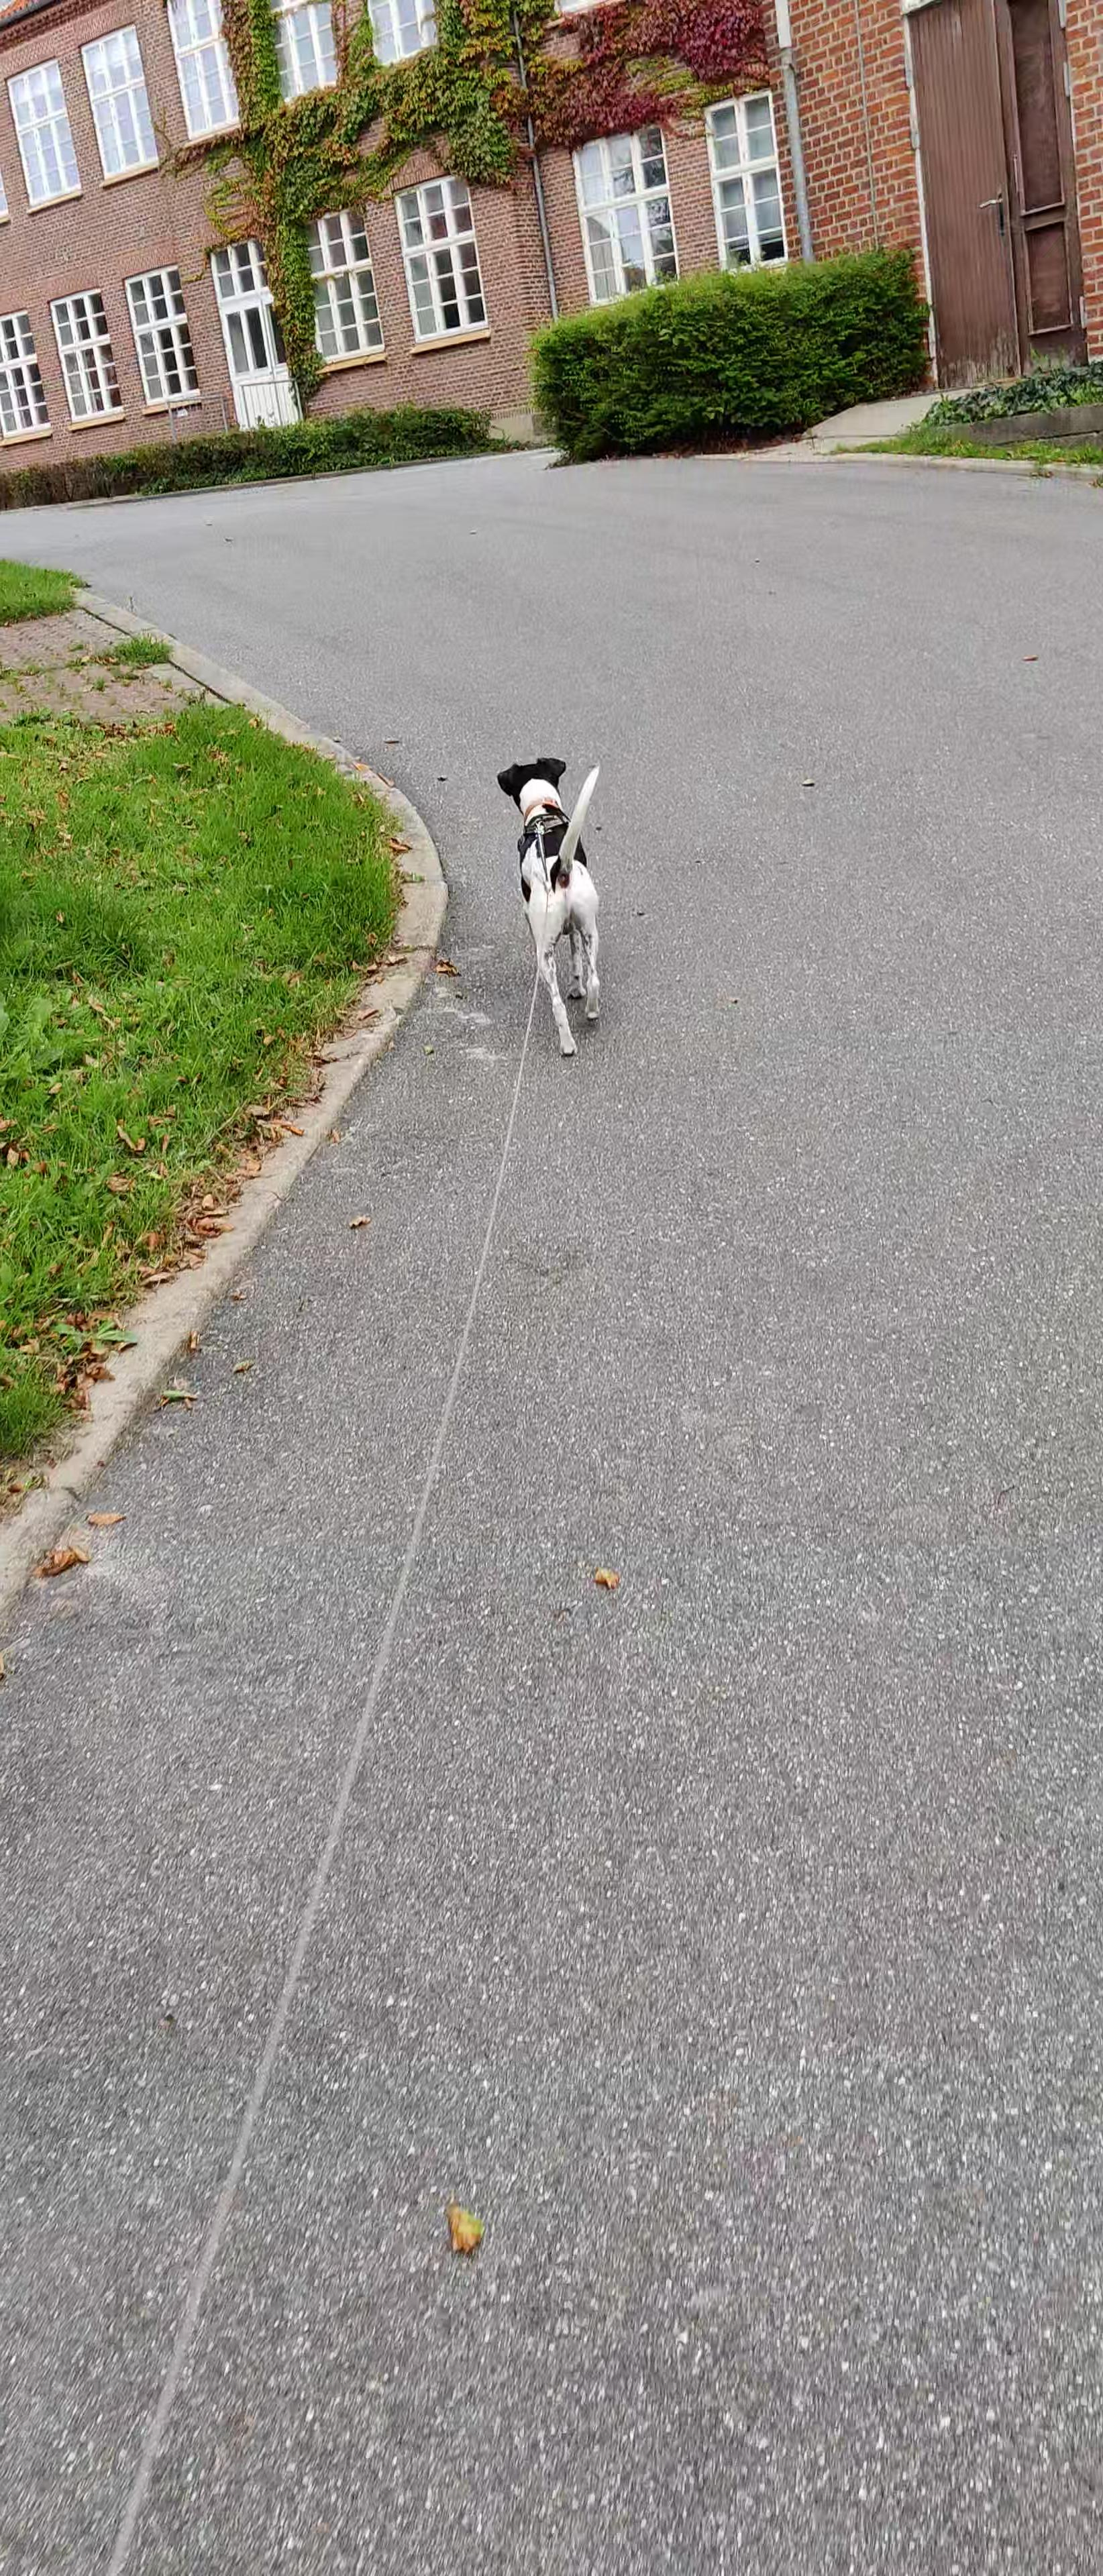Dog: (470, 736, 641, 1069)
